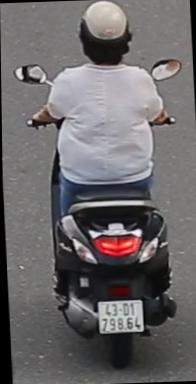LP: (94, 297, 146, 337)
helmet: (70, 0, 139, 75)
